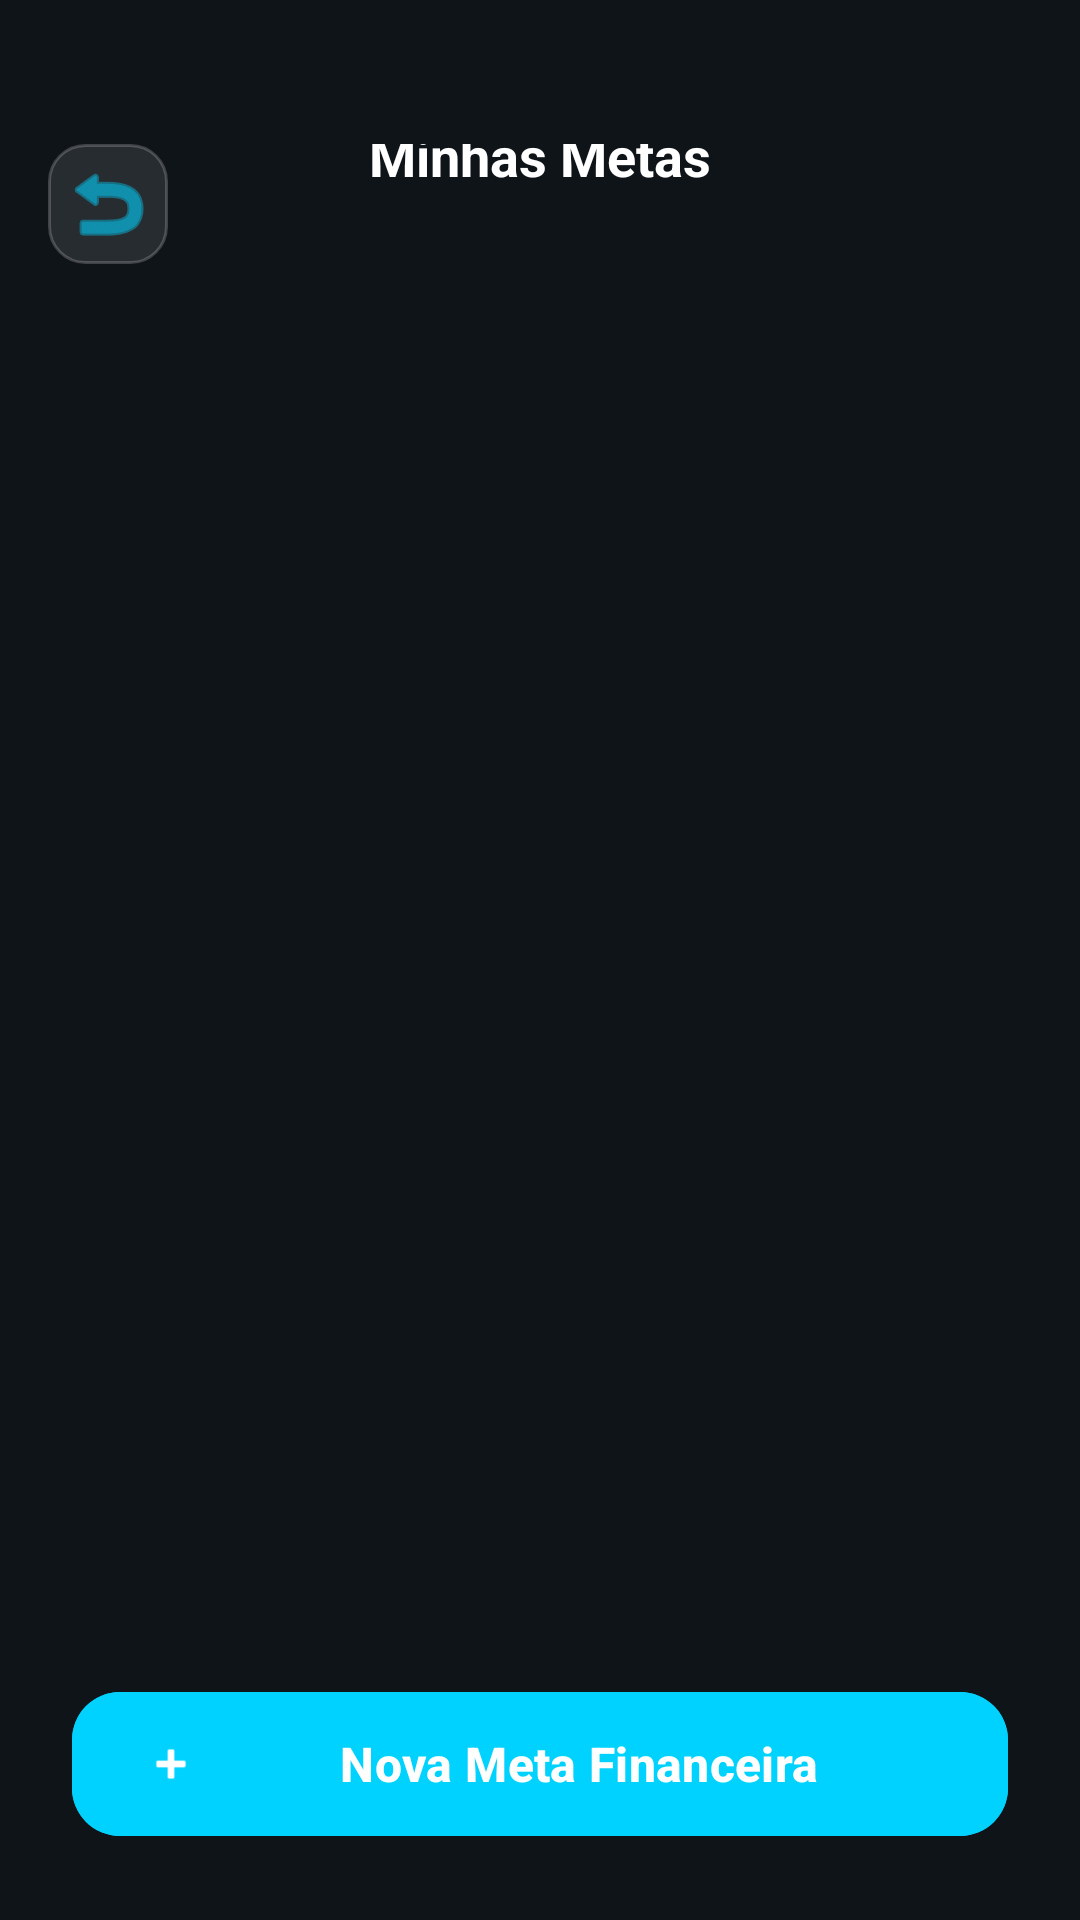

Icon bounding boxes for this 1080 x 1920 phone screenshot, format (x1, y1, x2, y2):
revert: (48, 144, 168, 264)
